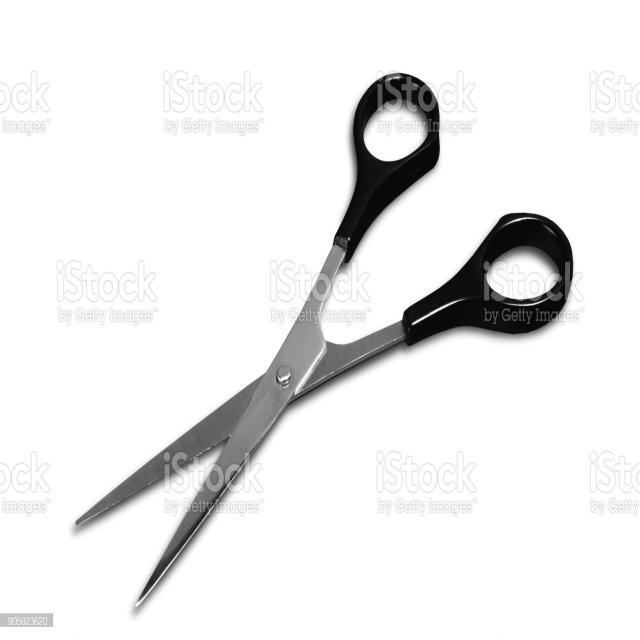scissor: (70, 73, 578, 612)
